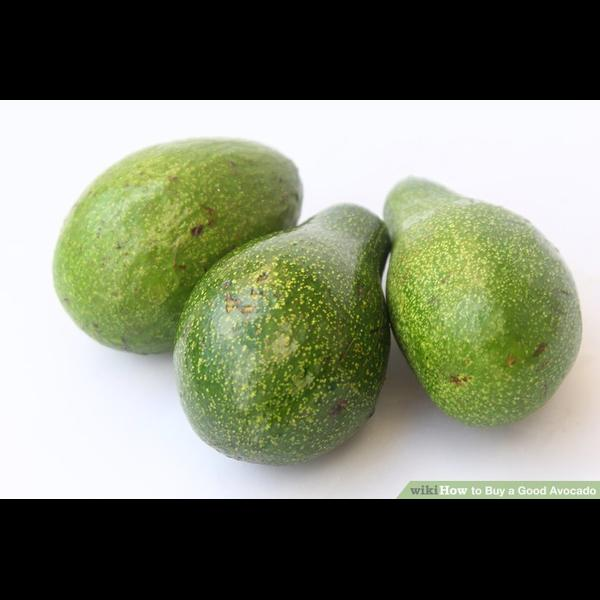unripe: (174, 203, 391, 467), (52, 138, 304, 355), (382, 174, 582, 430)
